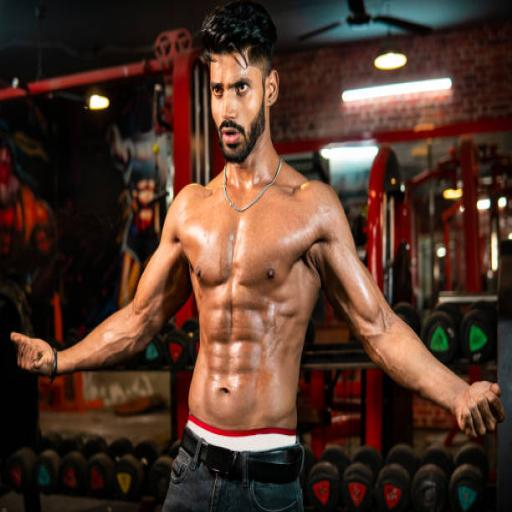Person: (64, 96, 480, 416)
no_gloves: (0, 281, 82, 349), (433, 325, 507, 389)
no_goggle: (200, 133, 262, 160)
no_helmet: (184, 68, 278, 146)
none: (168, 193, 347, 386)
